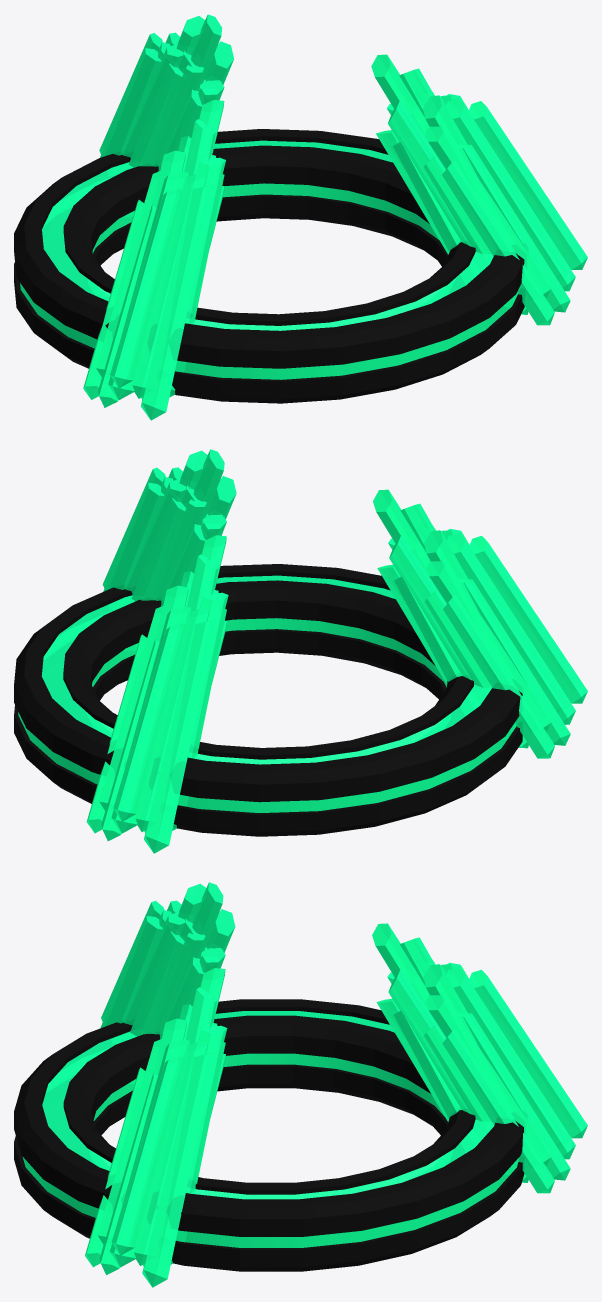
The model's file is 14_12_15_crystal_basis.FBX.
3 renders of one model, top to bottom at view 1: azimuth 30°, elevation 25°; view 2: azimuth 150°, elevation 25°; view 3: azimuth 270°, elevation 25°, orthographic.
Parts seen in each view (by area): view 1: Sphere001; view 2: Sphere001; view 3: Sphere001.
Part boxes in pixels (left/top/right/bottom): Sphere001: left=14, top=14, right=587, bottom=420; Sphere001: left=14, top=449, right=587, bottom=853; Sphere001: left=14, top=882, right=587, bottom=1287.
Size of the model in its own units: 1451 by 1512 by 773.
